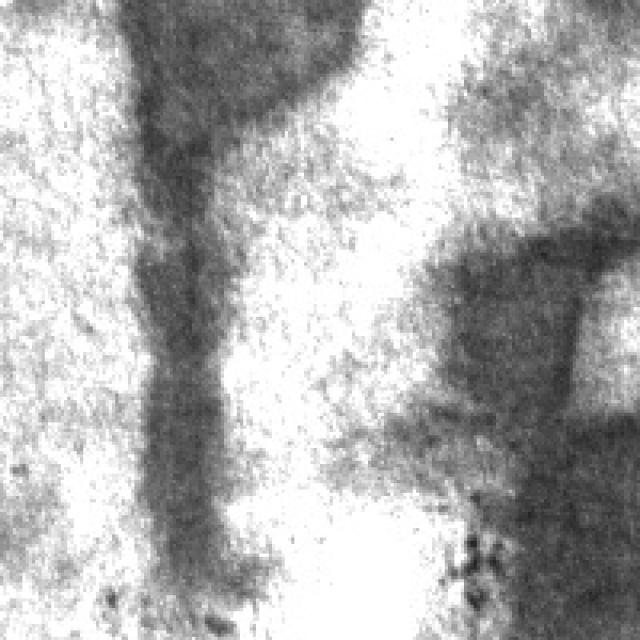patches: (403, 166, 640, 624), (131, 58, 266, 602), (134, 0, 368, 141)
